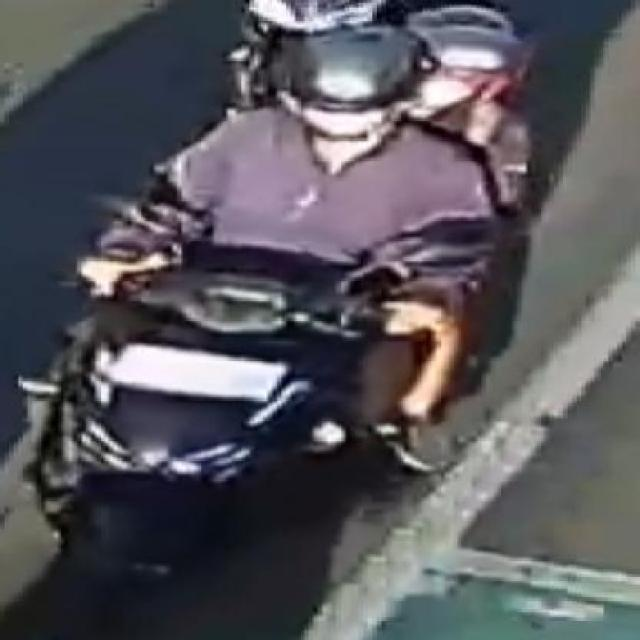helmet: (267, 27, 414, 154), (409, 11, 528, 110)
motorcycle: (30, 5, 559, 599)
